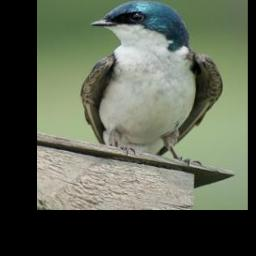Swallow: (78, 0, 223, 168)
